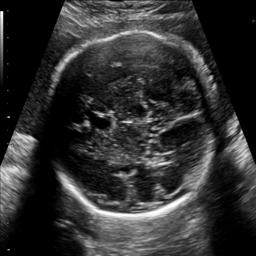normal: (45, 29, 220, 223)
